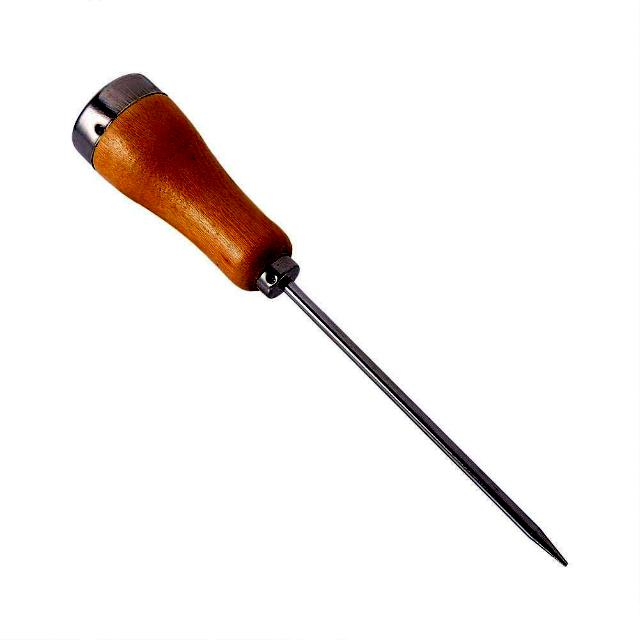ice pick: (71, 73, 569, 567)
